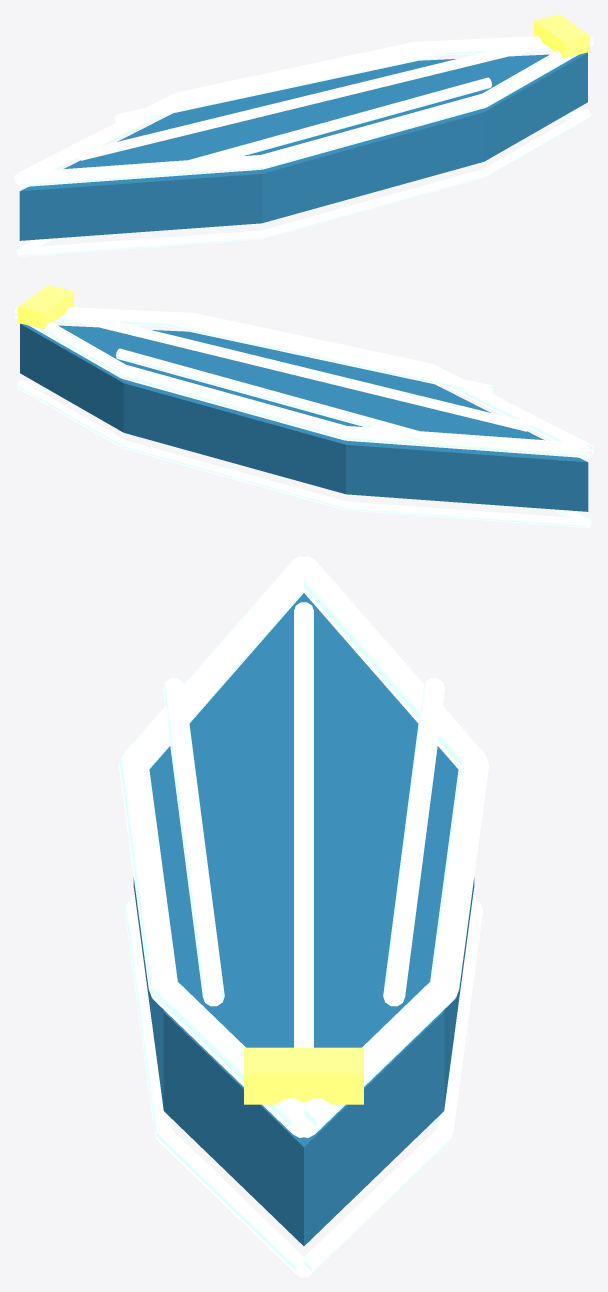
Rendered from rail_skimmer.glb.
3 renders of one model, top to bottom at view 1: azimuth 30°, elevation 25°; view 2: azimuth 150°, elevation 25°; view 3: azimuth 270°, elevation 25°, orthographic. The views are drawn at different scales.
Parts seen in each view (by area): view 1: RailSkimmerArrowDiamondDarkBody, RailSkimmerWhiteCenterRail, RailSkimmerRightSideRail, RailSkimmerTopCyanTube_edge_0, RailSkimmerTopCyanTube_edge_1, RailSkimmerLeftSideRail, RailSkimmerLowerCyanTube_edge_0, RailSkimmerTopCyanTube_edge_4, RailSkimmerLowerCyanTube_edge_1, RailSkimmerTopCyanTube_edge_5, RailSkimmerGoldChargeNose, RailSkimmerTopCyanTube_edge_2 (+2 smaller); view 2: RailSkimmerArrowDiamondDarkBody, RailSkimmerWhiteCenterRail, RailSkimmerLeftSideRail, RailSkimmerTopCyanTube_edge_5, RailSkimmerTopCyanTube_edge_4, RailSkimmerRightSideRail, RailSkimmerLowerCyanTube_edge_5, RailSkimmerTopCyanTube_edge_1, RailSkimmerLowerCyanTube_edge_4, RailSkimmerTopCyanTube_edge_0, RailSkimmerGoldChargeNose, RailSkimmerTopCyanTube_edge_3 (+2 smaller); view 3: RailSkimmerArrowDiamondDarkBody, RailSkimmerWhiteCenterRail, RailSkimmerLeftSideRail, RailSkimmerRightSideRail, RailSkimmerTopCyanTube_edge_1, RailSkimmerTopCyanTube_edge_4, RailSkimmerTopCyanTube_edge_0, RailSkimmerTopCyanTube_edge_5, RailSkimmerGoldChargeNose, RailSkimmerTopCyanTube_edge_2, RailSkimmerTopCyanTube_edge_3, RailSkimmerLowerCyanTube_edge_2 (+3 smaller).
Boxes of the visible parts, x1,y1,x2,y2 form: RailSkimmerArrowDiamondDarkBody: (19, 52, 587, 240); RailSkimmerWhiteCenterRail: (78, 39, 542, 160); RailSkimmerRightSideRail: (115, 44, 446, 122); RailSkimmerTopCyanTube_edge_0: (18, 155, 262, 187); RailSkimmerTopCyanTube_edge_1: (261, 93, 488, 169); RailSkimmerLeftSideRail: (179, 77, 491, 172); RailSkimmerLowerCyanTube_edge_0: (19, 230, 262, 256); RailSkimmerTopCyanTube_edge_4: (175, 42, 415, 100); RailSkimmerLowerCyanTube_edge_1: (261, 169, 486, 239); RailSkimmerTopCyanTube_edge_5: (14, 93, 180, 185); RailSkimmerGoldChargeNose: (534, 14, 589, 58); RailSkimmerTopCyanTube_edge_2: (483, 35, 593, 106); RailSkimmerArrowDiamondDarkBody: (20, 323, 588, 511); RailSkimmerWhiteCenterRail: (65, 310, 529, 431); RailSkimmerLeftSideRail: (161, 315, 492, 393); RailSkimmerTopCyanTube_edge_5: (345, 426, 589, 458); RailSkimmerTopCyanTube_edge_4: (119, 364, 346, 440); RailSkimmerRightSideRail: (116, 348, 428, 443); RailSkimmerLowerCyanTube_edge_5: (345, 501, 588, 527); RailSkimmerTopCyanTube_edge_1: (192, 313, 432, 371); RailSkimmerLowerCyanTube_edge_4: (121, 440, 346, 510); RailSkimmerTopCyanTube_edge_0: (427, 364, 593, 457); RailSkimmerGoldChargeNose: (18, 285, 73, 329); RailSkimmerTopCyanTube_edge_3: (14, 306, 124, 377); RailSkimmerArrowDiamondDarkBody: (133, 593, 474, 1245); RailSkimmerWhiteCenterRail: (294, 602, 313, 1047); RailSkimmerLeftSideRail: (163, 678, 224, 1006); RailSkimmerRightSideRail: (383, 678, 444, 1006); RailSkimmerTopCyanTube_edge_1: (118, 751, 177, 996); RailSkimmerTopCyanTube_edge_4: (430, 751, 489, 996); RailSkimmerTopCyanTube_edge_0: (121, 556, 307, 768); RailSkimmerTopCyanTube_edge_5: (300, 556, 486, 768); RailSkimmerGoldChargeNose: (244, 1047, 363, 1104); RailSkimmerTopCyanTube_edge_2: (150, 975, 316, 1137); RailSkimmerTopCyanTube_edge_3: (291, 975, 457, 1137); RailSkimmerLowerCyanTube_edge_2: (155, 1126, 311, 1277).
Bounding box in the file's own units: 2.64 × 0.4221 × 0.7399.
